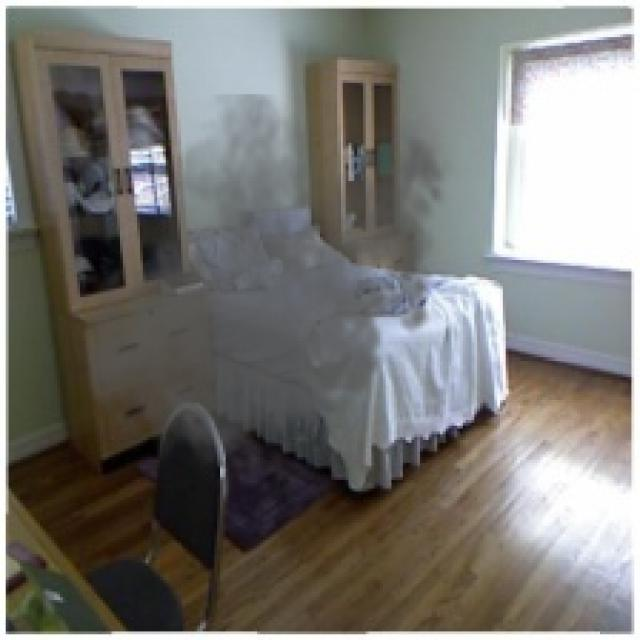smoke: (77, 94, 457, 483)
